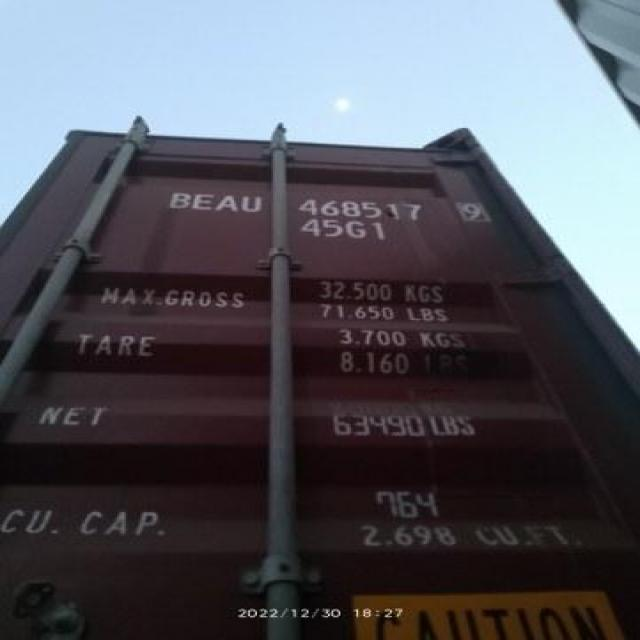container_number_h: (142, 162, 523, 267)
